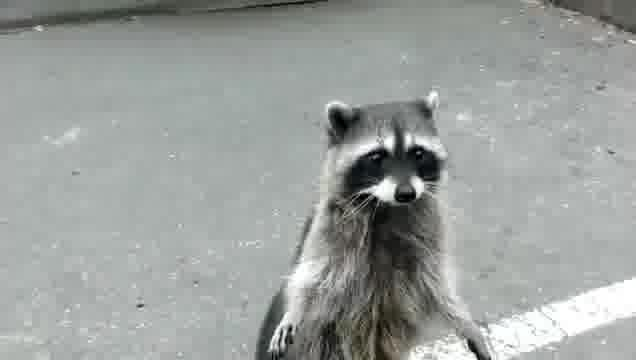raccoon: (255, 90, 494, 360)
